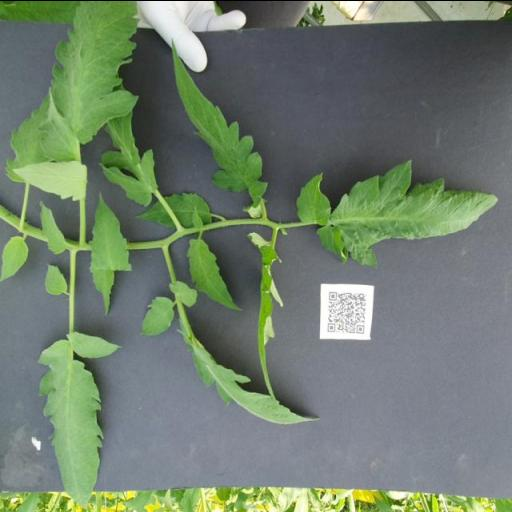Healthy: (295, 158, 501, 268), (32, 0, 142, 167), (170, 36, 270, 216), (176, 315, 322, 425), (35, 331, 124, 508), (186, 238, 242, 312), (138, 294, 174, 336), (0, 234, 29, 282)
